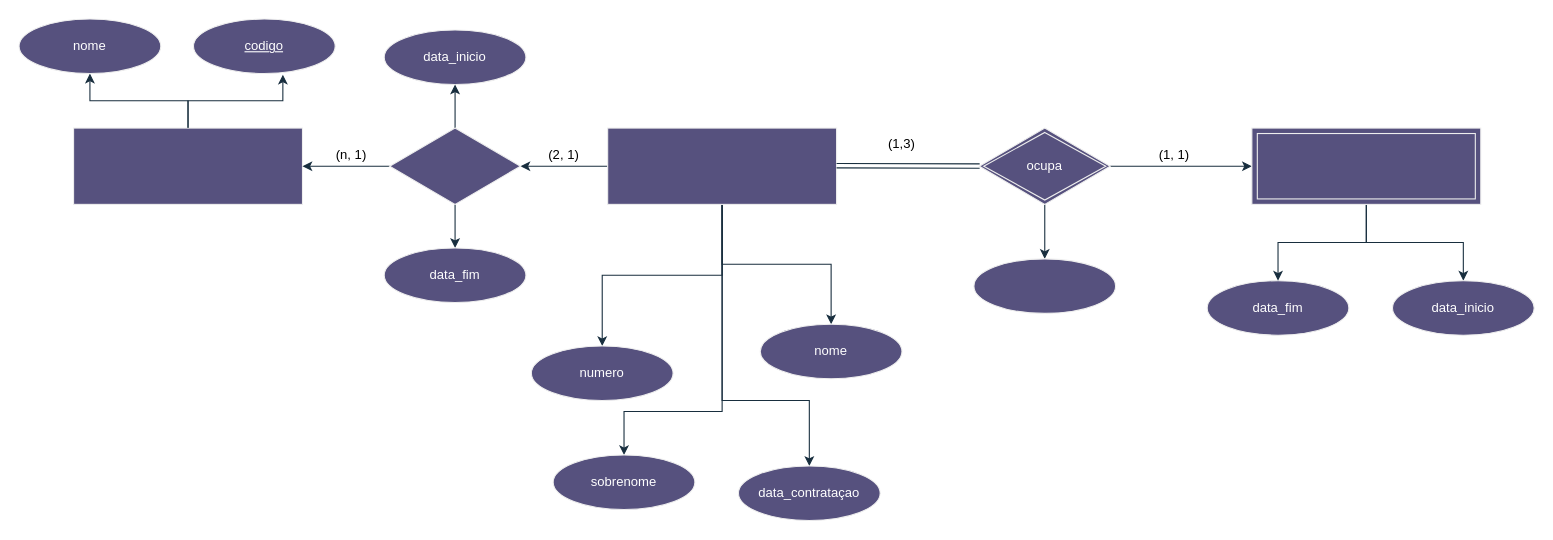
Image size: 1553x540. Some labels were removed from this diagram. Each missing label, with the box of its shape:
cargo_ocupado: (1251, 127, 1481, 204)
departamento: (72, 127, 302, 204)
funcionario: (607, 127, 837, 204)
nome_cargo: (973, 258, 1116, 313)
trabalha: (389, 127, 520, 204)
